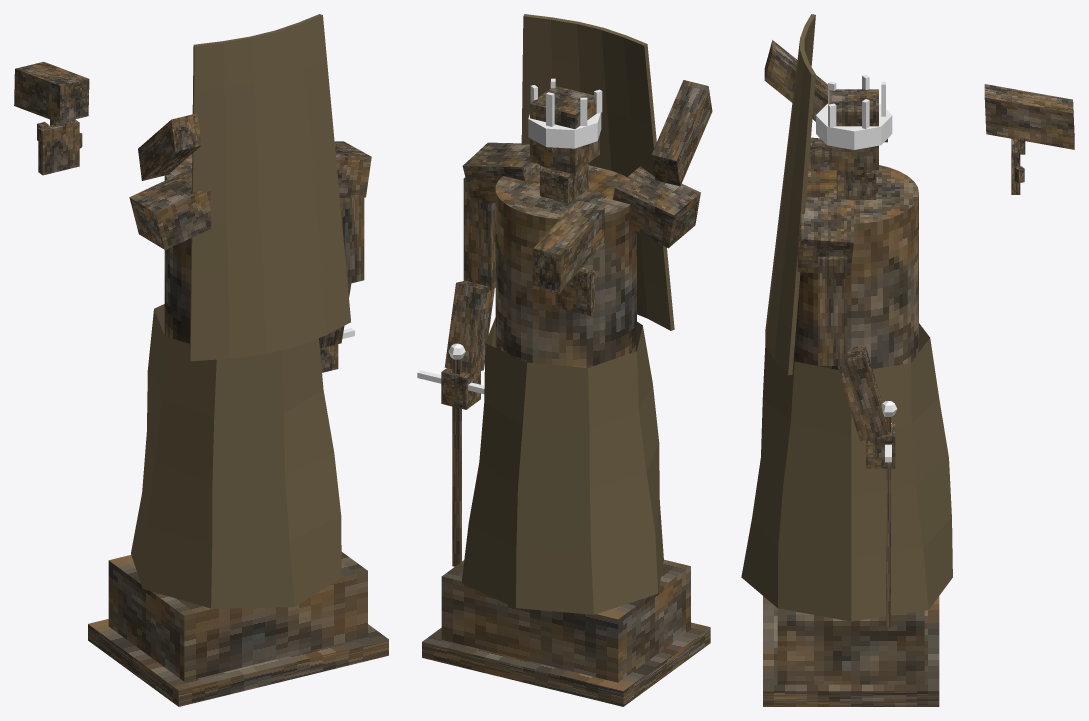
File: ancient_statue.glb
3 renders of one model, left to right at view 1: azimuth 30°, elevation 25°; view 2: azimuth 150°, elevation 25°; view 3: azimuth 270°, elevation 25°, orthographic. The views are drawn at different scales.
Visible parts, largest first — view 1: Robe, Cape, PedestalBase, PedestalStep, Shoulder_L, Arm_L_Upper, Cylinder, Arm_L_Forearm, Hand_L, Arm_R_Upper, Shoulder_R; view 2: Robe, Cylinder, Cape, PedestalBase, PedestalStep, Shoulder_L, Arm_L_Upper, Arm_L_Forearm, Arm_R_Forearm, HeadBlock, Shoulder_R, Arm_R_Upper (+5 smaller); view 3: Robe, Cylinder, PedestalBase, Cape, PedestalStep, Arm_L_Upper, Shoulder_R, Arm_R_Upper, Arm_R_Forearm, HeadBlock, CrownBand, Arm_L_Forearm (+4 smaller).
Boxes of the visible parts, box(x1,y1,x2,y2) form: Robe: box(131, 304, 341, 608); Cape: box(190, 14, 350, 361); PedestalBase: box(108, 552, 367, 681); PedestalStep: box(88, 619, 388, 706); Shoulder_L: box(129, 168, 211, 249); Arm_L_Upper: box(14, 61, 89, 122); Cylinder: box(164, 154, 282, 350); Arm_L_Forearm: box(138, 113, 201, 180); Hand_L: box(38, 119, 79, 175); Arm_R_Upper: box(340, 197, 364, 283); Shoulder_R: box(334, 141, 371, 197); Robe: box(461, 317, 663, 614); Cylinder: box(495, 165, 636, 367); Cape: box(521, 14, 674, 330); PedestalBase: box(441, 559, 690, 682); PedestalStep: box(422, 622, 710, 706); Shoulder_L: box(613, 166, 700, 248); Arm_L_Upper: box(532, 201, 604, 291); Arm_L_Forearm: box(651, 80, 712, 186); Arm_R_Forearm: box(444, 280, 494, 373); HeadBlock: box(530, 86, 599, 172); Shoulder_R: box(462, 142, 543, 202); Arm_R_Upper: box(463, 177, 495, 290); Robe: box(741, 323, 952, 621); Cylinder: box(793, 165, 918, 369); PedestalBase: box(777, 608, 924, 684); Cape: box(765, 14, 815, 375); PedestalStep: box(763, 596, 939, 706); Arm_L_Upper: box(984, 84, 1074, 149); Shoulder_R: box(797, 197, 853, 275); Arm_R_Upper: box(818, 256, 847, 365); Arm_R_Forearm: box(837, 345, 888, 441); HeadBlock: box(829, 89, 878, 170); CrownBand: box(816, 103, 892, 149); Arm_L_Forearm: box(764, 40, 827, 121).
Bounding box in the file's own units: 4.7 × 11.56 × 5.67.
3 materials, 2 textured.
